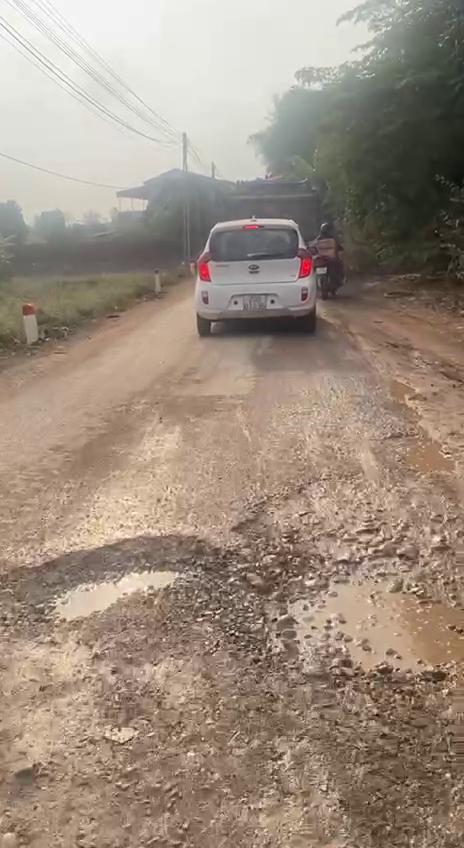pothole: (217, 474, 464, 689), (0, 524, 222, 658)
